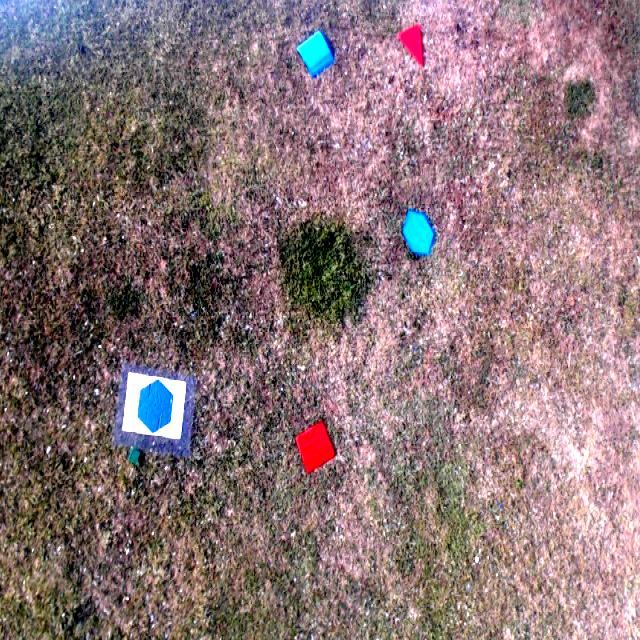blue_hexagon: (138, 378, 175, 433), (404, 211, 435, 258)
blue_square: (295, 30, 335, 76)
red_square: (296, 420, 337, 474)
red_triangle: (396, 22, 424, 65)
